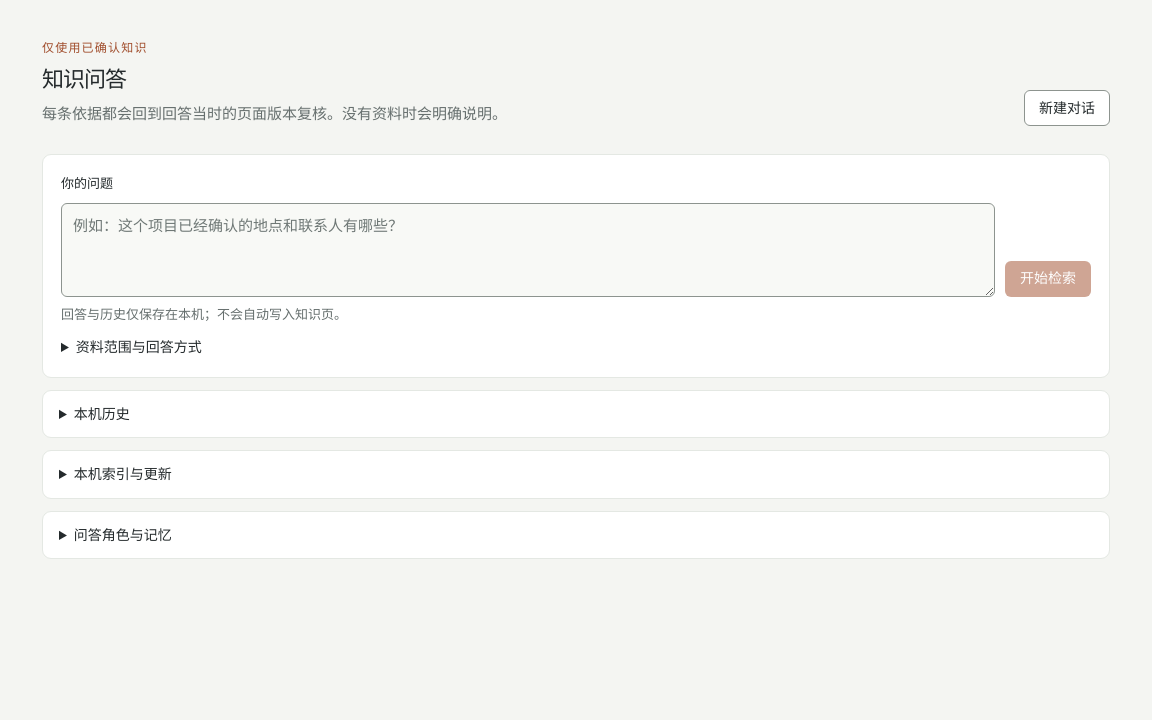
Test: keeps Ask request failures distinct from successful empty results
The image size is (1152, 720).
Click the heading "本机历史". click: (102, 413)
box: [74,405,130,422]
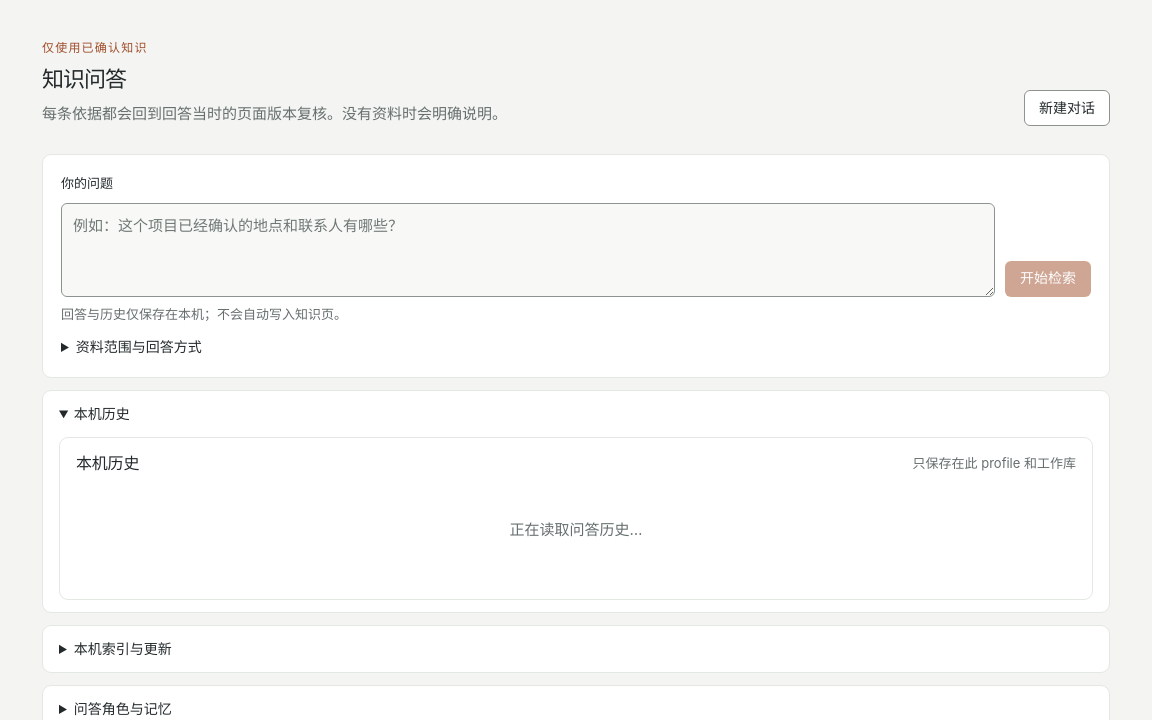
Click the heading "问答角色与记忆". click: (123, 708)
box: [74,700,172,717]
(page scrolled)
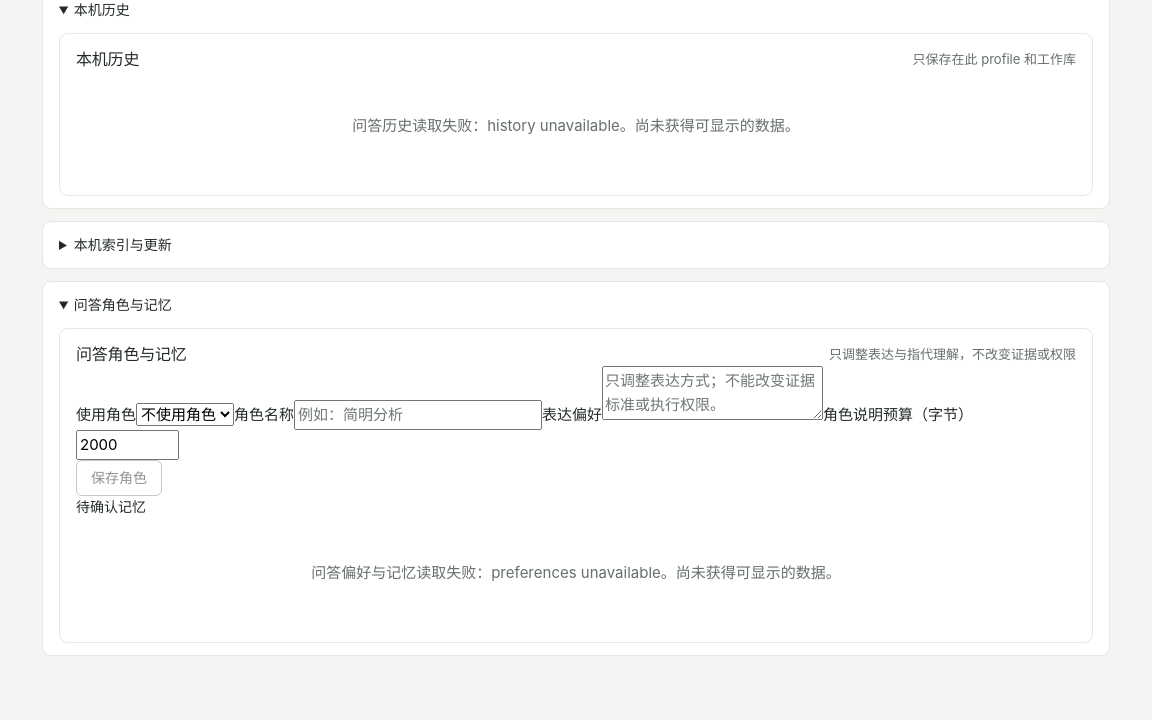
Expected: the text "问答历史读取失败：history unavailable。尚未获得可显示的数据。" is shown, [352,116,800,134]
Expected: the text "问答偏好与记忆读取失败：preferences unavailable。尚未获得可显示的数据。" is shown, [311,563,841,582]
